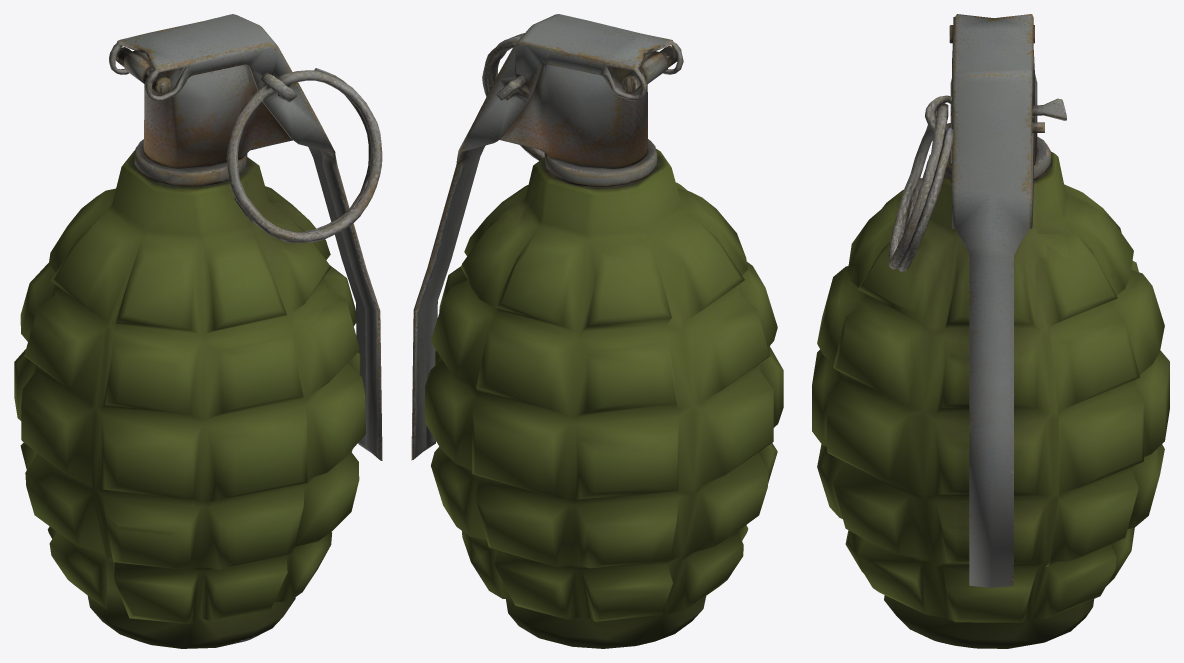
3 renders of one model, left to right at view 1: azimuth 30°, elevation 25°; view 2: azimuth 150°, elevation 25°; view 3: azimuth 270°, elevation 25°, orthographic.
Visible parts, largest first — view 1: tripo_node_e495e446-fb4a-48c2-aeae-e59fca013724; view 2: tripo_node_e495e446-fb4a-48c2-aeae-e59fca013724; view 3: tripo_node_e495e446-fb4a-48c2-aeae-e59fca013724.
Boxes of the visible parts, bbox=[...] form: tripo_node_e495e446-fb4a-48c2-aeae-e59fca013724: bbox=[14, 14, 382, 648]; tripo_node_e495e446-fb4a-48c2-aeae-e59fca013724: bbox=[411, 14, 783, 648]; tripo_node_e495e446-fb4a-48c2-aeae-e59fca013724: bbox=[812, 14, 1169, 648].
Size of the model in its own units: 0.6191 by 0.998 by 0.5645.
Materials: 1 (1 with a texture image).
